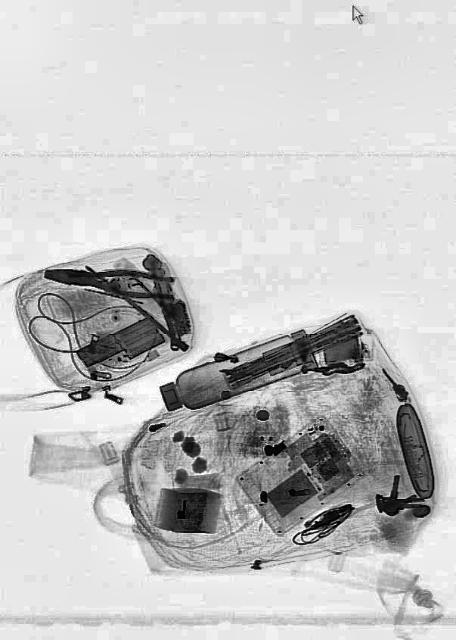Pliers: (42, 260, 174, 302)
